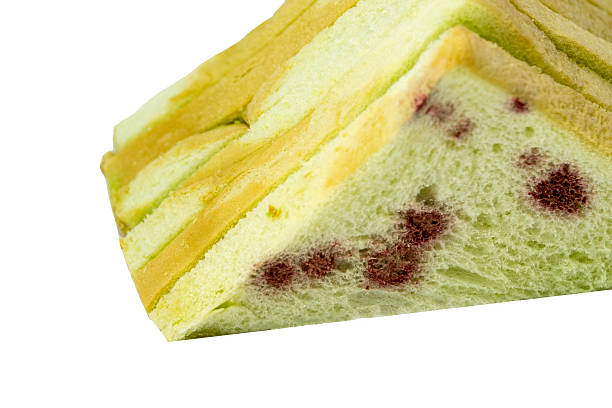mold_bread: (358, 200, 458, 292), (243, 235, 347, 289), (402, 82, 476, 146), (527, 161, 600, 222), (512, 143, 546, 171), (502, 91, 535, 116)
